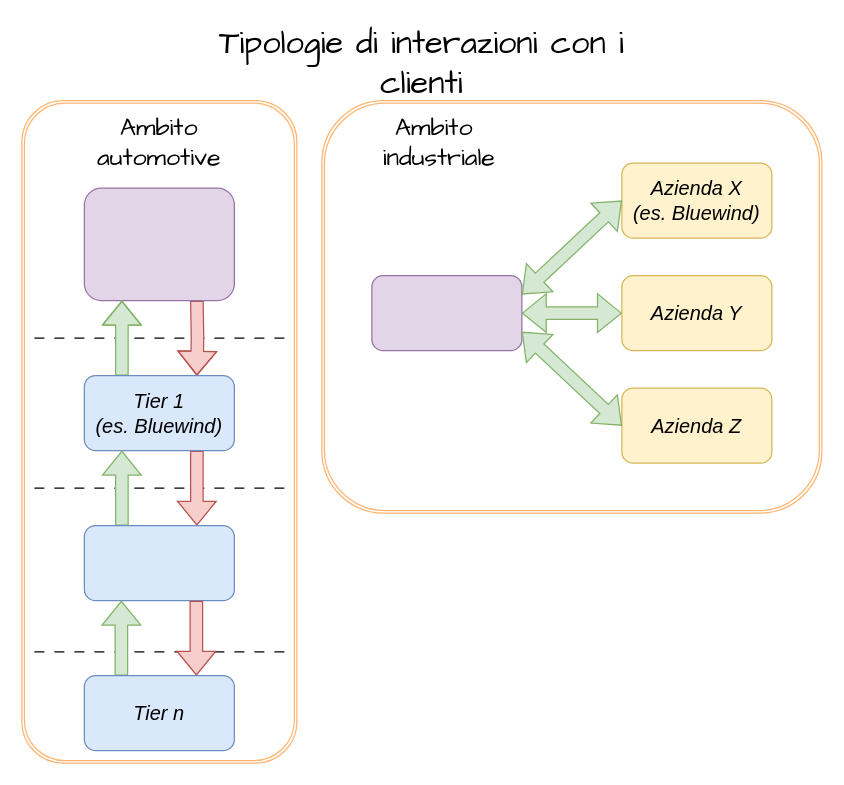
This 844x785 diagram has some shape labels left out. The shapes that lost their labels are listed below. From the top down, each one's centre as x and y in pixels, then its label:
At point (158, 244): "OEM (Original Equipment Manufacturer)".
At point (446, 312): "Azienda committente".
At point (158, 562): "Tier 2".
